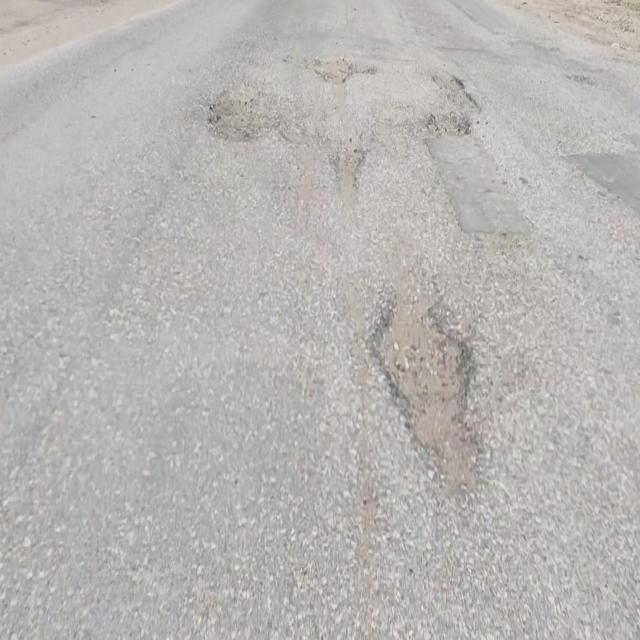Potholes: (366, 290, 485, 498), (423, 68, 481, 140), (206, 85, 273, 144), (328, 141, 368, 198), (316, 56, 354, 88)
